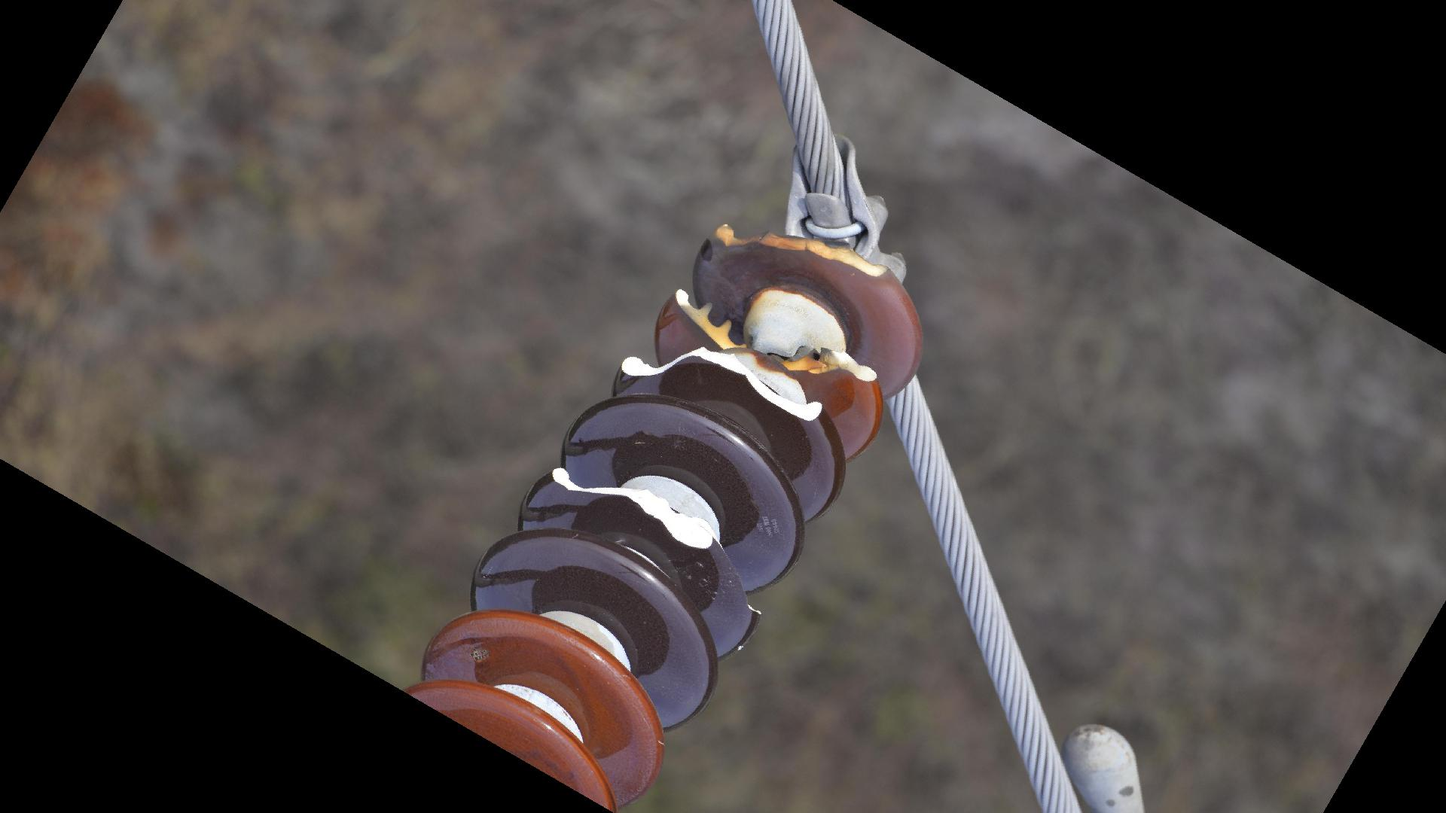insulator: (400, 216, 931, 813)
insulator_breakage: (541, 461, 773, 630), (661, 285, 885, 394), (611, 343, 828, 430), (708, 217, 897, 286)
